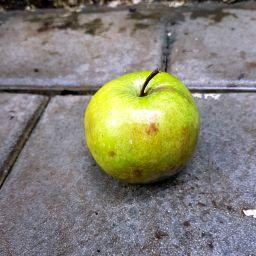apple: (74, 46, 225, 188)
